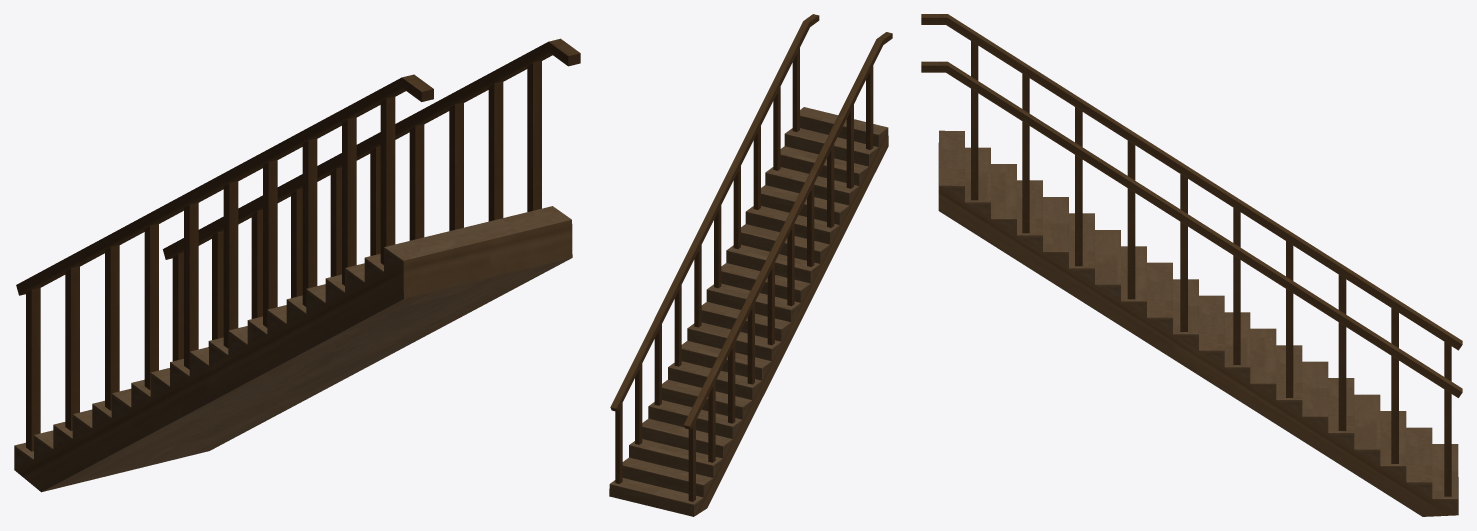
Rendered from stairs5.fbx.
3 renders of one model, left to right at view 1: azimuth 30°, elevation 25°; view 2: azimuth 150°, elevation 25°; view 3: azimuth 270°, elevation 25°, orthographic. The views are drawn at different scales.
Parts seen in each view (by area): view 1: polySurface960; view 2: polySurface960; view 3: polySurface960.
Boxes of the visible parts, x1,y1,x2,y2 form: polySurface960: (14, 38, 580, 492); polySurface960: (609, 14, 892, 516); polySurface960: (921, 14, 1462, 516).
Bounding box in the file's own units: 150 × 573 × 625.
